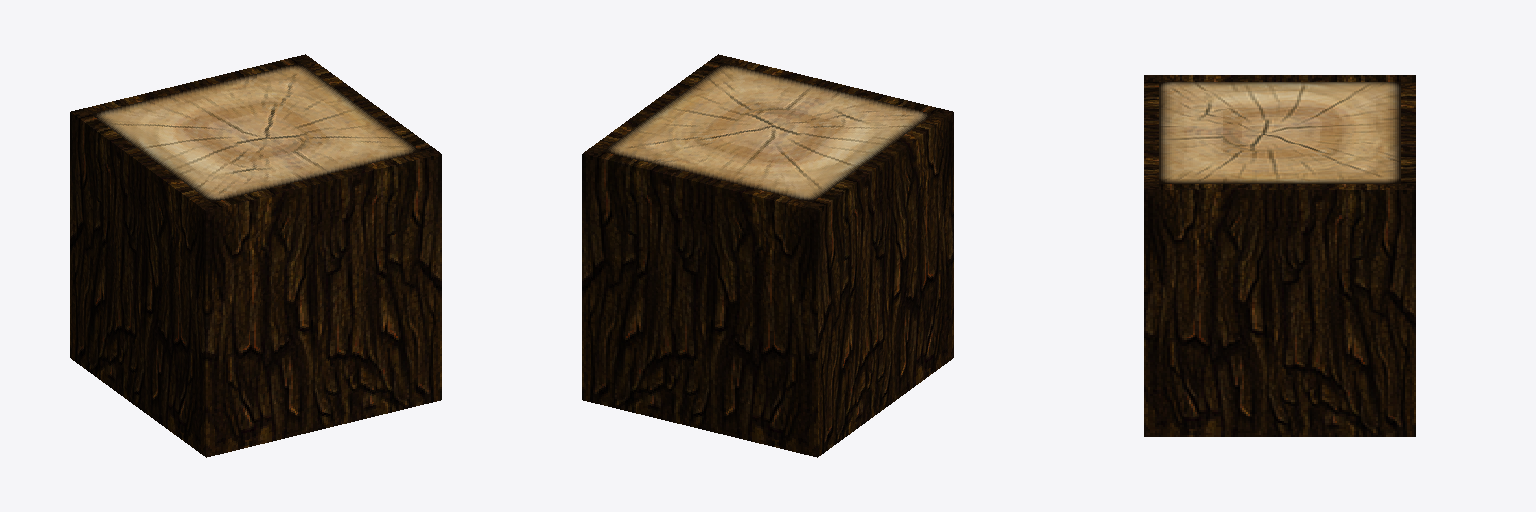
3 views of the same model, side by side, from view 1: azimuth 30°, elevation 25°; view 2: azimuth 150°, elevation 25°; view 3: azimuth 270°, elevation 25° (orthographic).
Parts seen in each view (by area): view 1: Cube; view 2: Cube; view 3: Cube.
Boxes of the visible parts, <box> form: Cube: <box>70,54,441,457</box>; Cube: <box>582,54,953,457</box>; Cube: <box>1144,75,1415,436</box>.
Bounding box in the file's own units: 2 × 2 × 2.
2 materials, 2 textured.